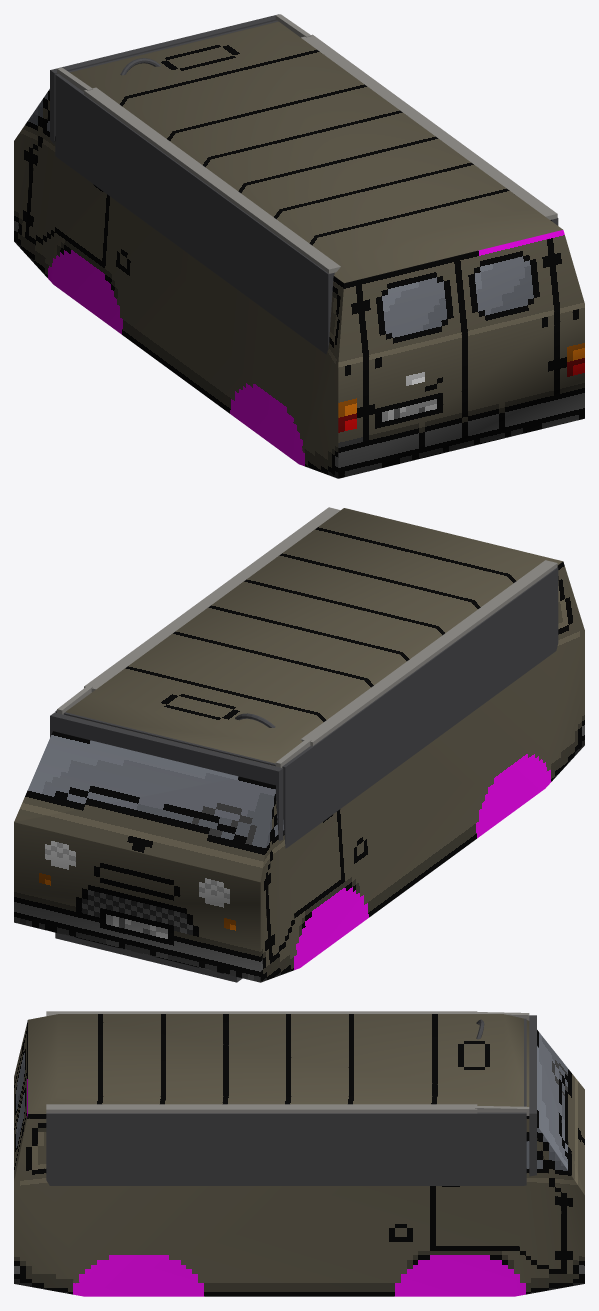
Rendered from bukhanka.glb.
The picture shows the model from 3 angles, top to bottom: view 1: azimuth 30°, elevation 25°; view 2: azimuth 150°, elevation 25°; view 3: azimuth 270°, elevation 25°; orthographic projection. The views are drawn at different scales.
Parts seen in each view (by area): view 1: body, interior; view 2: body, interior, hood, bay; view 3: body, interior, hood.
Boxes of the visible parts, x1,y1,x2,y2 form: body: (14,21,584,478); interior: (50,14,558,354); body: (14,508,584,982); interior: (50,507,558,848); hood: (14,777,275,882); bay: (55,932,242,982); body: (14,1014,584,1296); interior: (46,1011,536,1185); hood: (537,1030,584,1194).
Size of the model in its own units: 1.93 by 1.67 by 4.4.
Materials: 8 (1 with a texture image).
